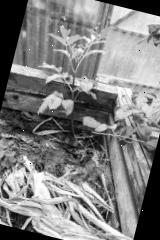organic: (25, 6, 129, 150), (0, 152, 145, 240), (0, 113, 66, 163)
